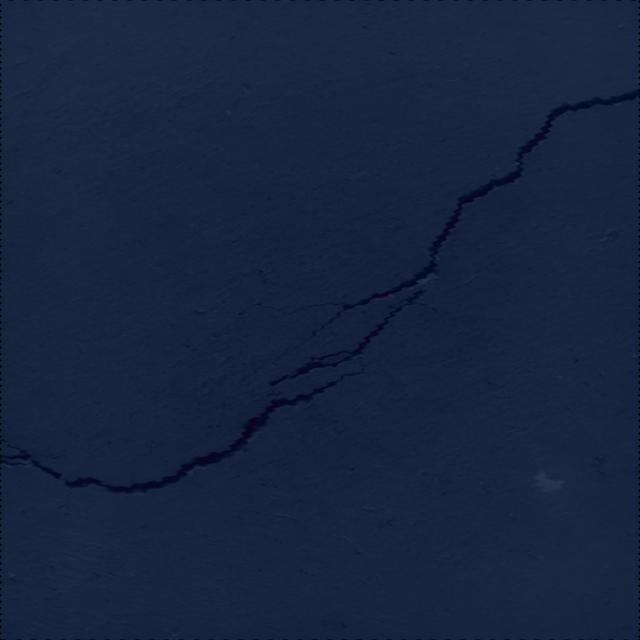crack: (235, 88, 640, 346), (0, 280, 447, 494)
